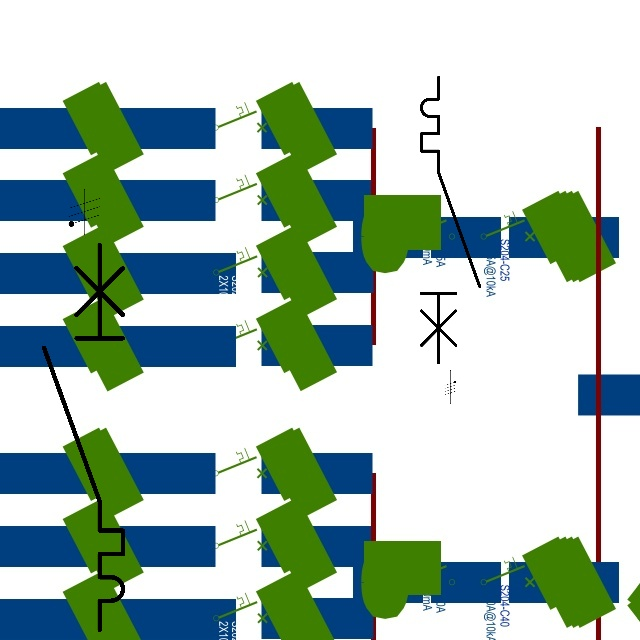interruptor_termomagnetico: (34, 234, 133, 639), (414, 70, 487, 370)
